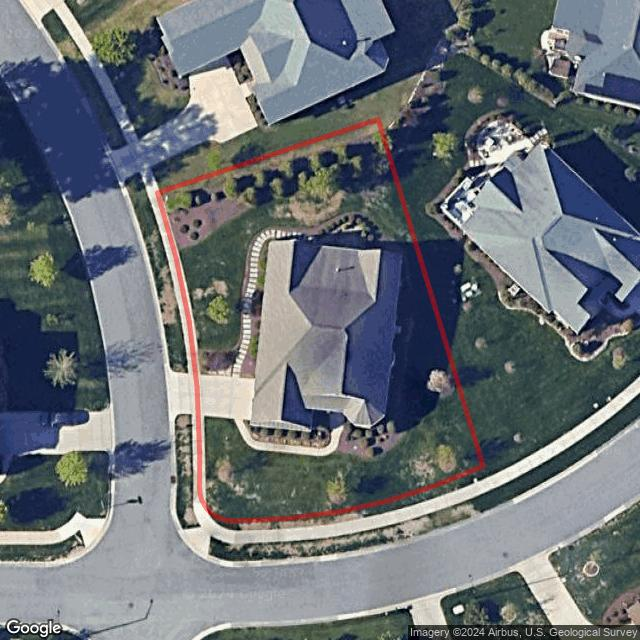Driveway: (196, 375, 256, 423)
Extra-Driveway: (166, 371, 198, 414)
Extra-Lawn: (210, 487, 508, 561), (205, 466, 488, 530), (131, 194, 189, 373), (175, 414, 202, 530)
Extra-Sidewalk: (178, 414, 498, 561), (148, 191, 196, 374), (127, 201, 174, 372)
Lawn: (158, 118, 485, 522)
Other: (199, 212, 402, 377), (159, 131, 387, 249), (337, 253, 418, 460), (246, 413, 332, 448)
Sidewalk: (155, 191, 201, 374), (234, 421, 344, 456), (198, 415, 205, 506)
